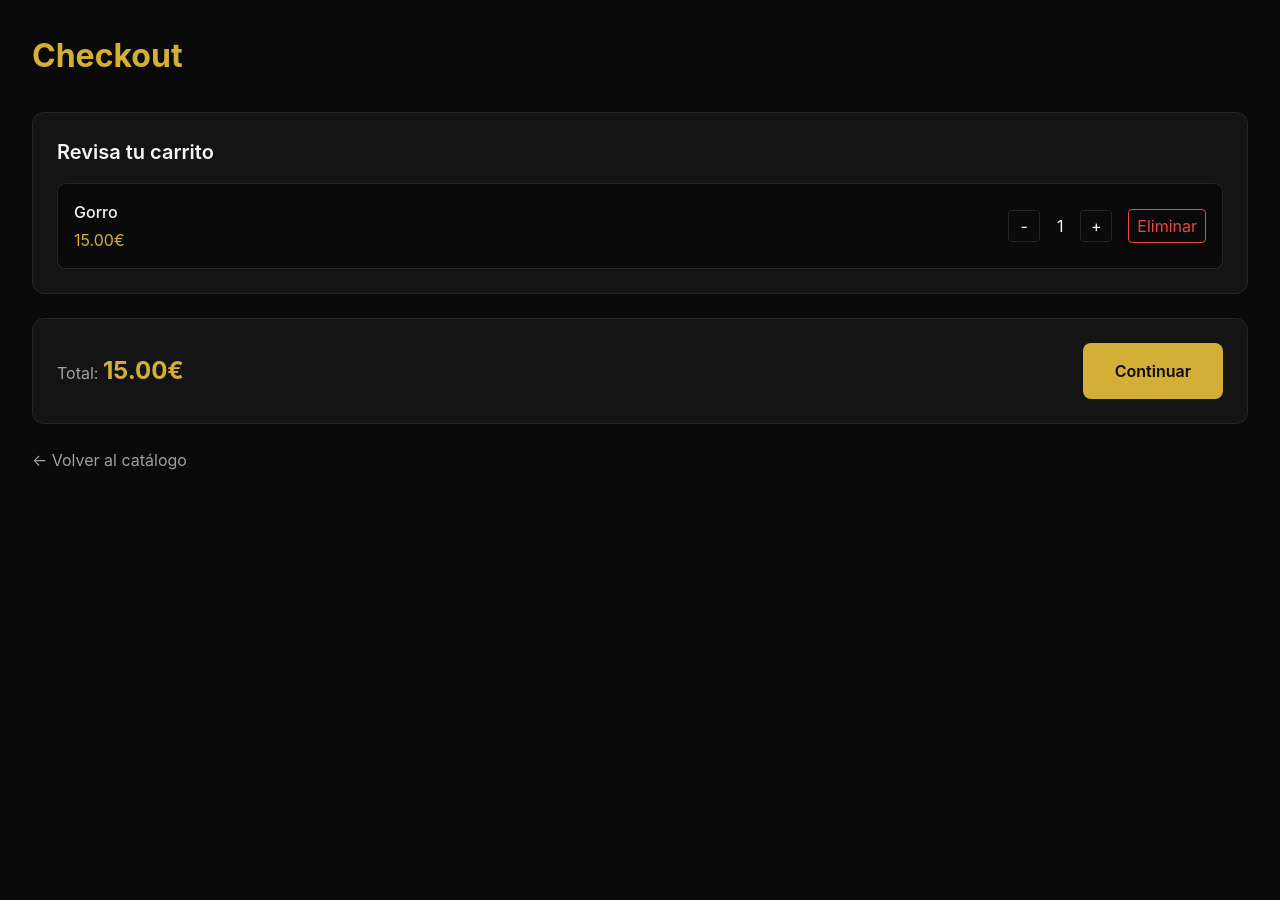
Checkout Page › Cart review step › should continue to contact form step
Expected: the heading "Revisa tu carrito" is shown, [57, 140, 214, 164]
Click the button "Continuar": (1153, 371) [1083, 343, 1223, 399]
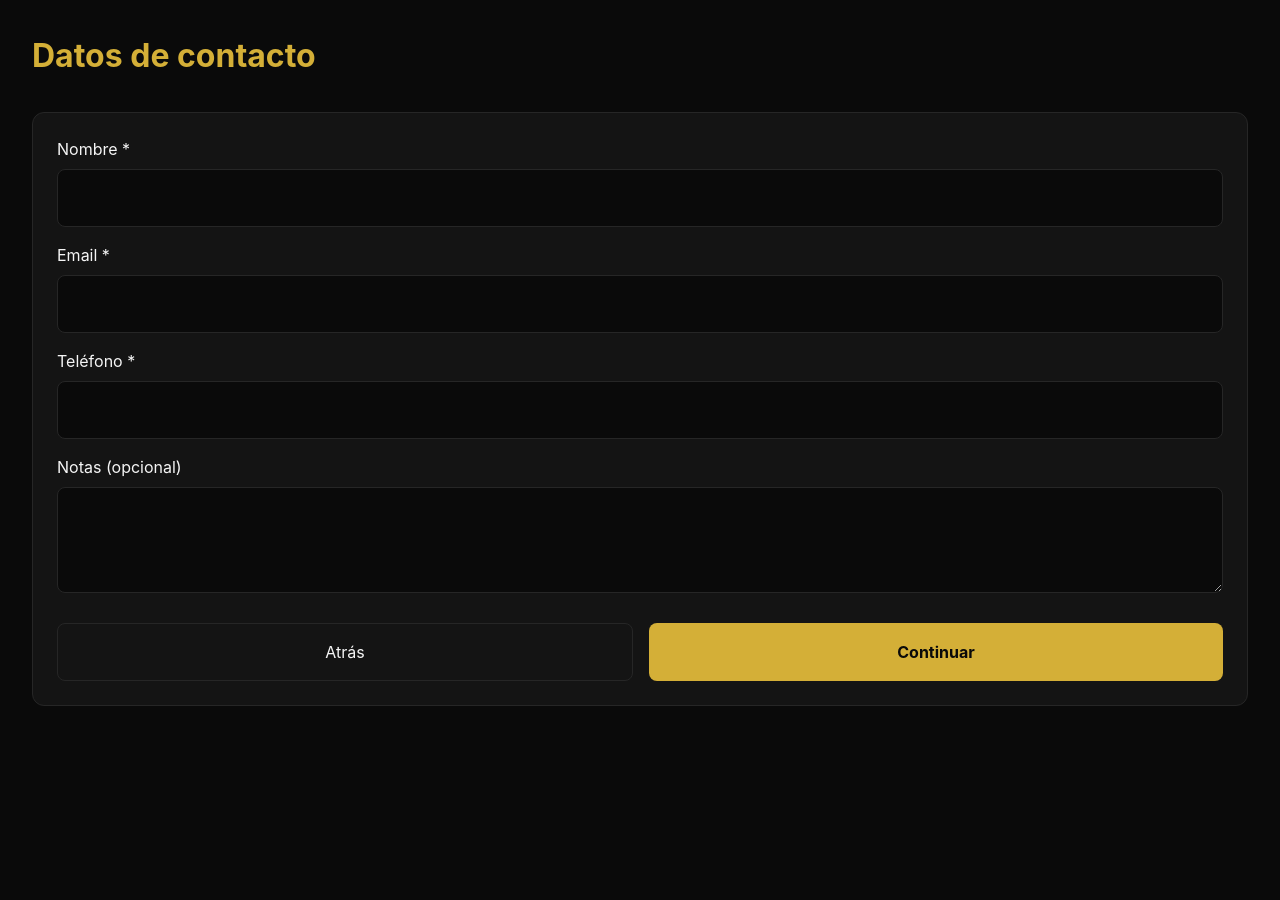
Result: the heading "Datos de contacto" is shown at [32, 36, 316, 75]
